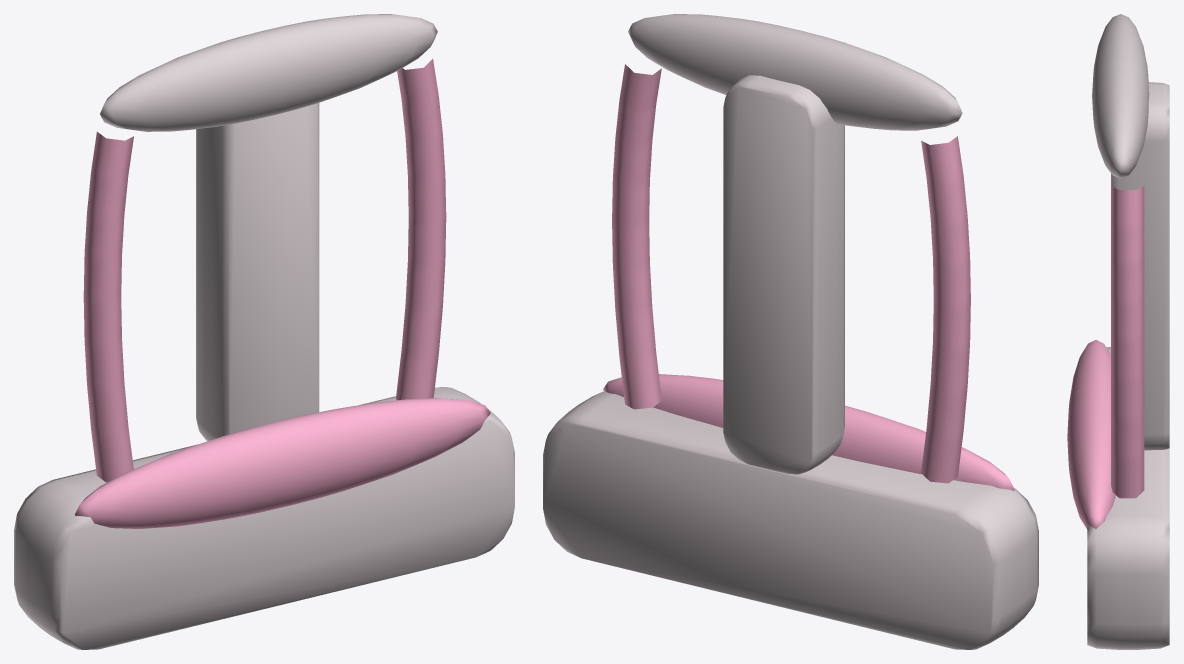
Rendered from decor_6_candy.glb.
3 renders of one model, left to right at view 1: azimuth 30°, elevation 25°; view 2: azimuth 150°, elevation 25°; view 3: azimuth 270°, elevation 25°, orthographic. The views are drawn at different scales.
Parts seen in each view (by area): view 1: decor_6_candy; view 2: decor_6_candy; view 3: decor_6_candy.
Boxes of the visible parts, left/top/right/bottom form: decor_6_candy: left=14, top=14, right=514, bottom=649; decor_6_candy: left=543, top=14, right=1038, bottom=649; decor_6_candy: left=1067, top=14, right=1169, bottom=649.
Size of the model in its own units: 7.14 by 8.27 by 1.52.
